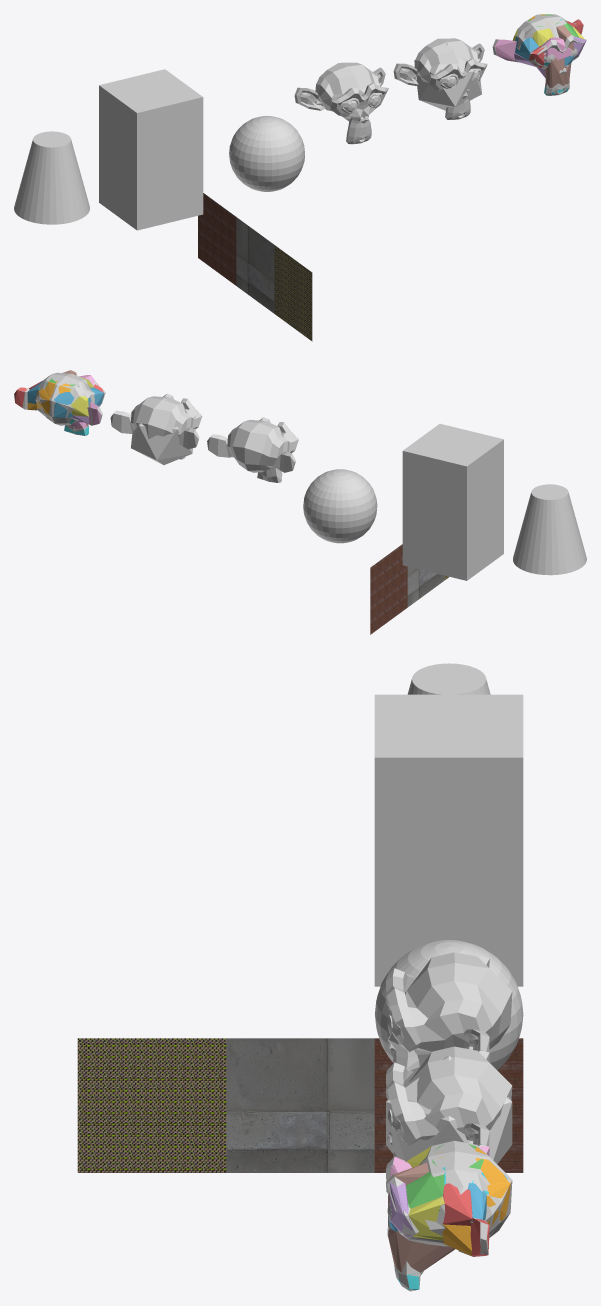
File: coltesting.glb
3 renders of one model, top to bottom at view 1: azimuth 30°, elevation 25°; view 2: azimuth 150°, elevation 25°; view 3: azimuth 270°, elevation 25°, orthographic. The views are drawn at different scales.
Visible parts, largest first — view 1: Cube, Cylinder, Sphere, Suzanne.VHACD, Suzanne, Suzanne.ColChild, Bricks, Concrete, Wood, Suzanne.col; view 2: Cube, Cylinder, Sphere, Suzanne.VHACD, Suzanne, Suzanne.ColChild, Wood, Suzanne.col, Concrete; view 3: Cube, Bricks, Concrete, Suzanne.VHACD, Suzanne, Suzanne.ColChild, Sphere, Wood, Suzanne.col, Cylinder.
Boxes of the visible parts, left/top/right/bottom form: Cube: left=99, top=69, right=203, bottom=230; Cylinder: left=14, top=131, right=89, bottom=224; Sphere: left=229, top=116, right=304, bottom=191; Suzanne.VHACD: left=492, top=14, right=586, bottom=95; Suzanne: left=294, top=62, right=388, bottom=144; Suzanne.ColChild: left=393, top=38, right=487, bottom=119; Bricks: left=274, top=245, right=312, bottom=341; Concrete: left=236, top=217, right=274, bottom=313; Wood: left=198, top=193, right=236, bottom=285; Suzanne.col: left=414, top=43, right=481, bottom=110; Cube: left=402, top=423, right=503, bottom=580; Cylinder: left=513, top=484, right=586, bottom=575; Sphere: left=303, top=469, right=377, bottom=543; Suzanne.VHACD: left=14, top=370, right=105, bottom=435; Suzanne: left=207, top=417, right=298, bottom=482; Suzanne.ColChild: left=110, top=393, right=202, bottom=459; Wood: left=370, top=544, right=407, bottom=634; Suzanne.col: left=131, top=398, right=196, bottom=465; Concrete: left=407, top=566, right=444, bottom=607; Cube: left=374, top=694, right=523, bottom=986; Bricks: left=77, top=1038, right=226, bottom=1172; Concrete: left=226, top=1038, right=374, bottom=1172; Suzanne.VHACD: left=386, top=1140, right=512, bottom=1291; Suzanne: left=386, top=952, right=512, bottom=1069; Suzanne.ColChild: left=386, top=1046, right=512, bottom=1157; Sphere: left=375, top=940, right=523, bottom=1070; Wood: left=374, top=1038, right=523, bottom=1172; Suzanne.col: left=386, top=1056, right=512, bottom=1163; Cylinder: left=407, top=663, right=490, bottom=694.
Bounding box in the file's own units: 17.37 × 5.7 × 6.
35 materials, 3 textured.
